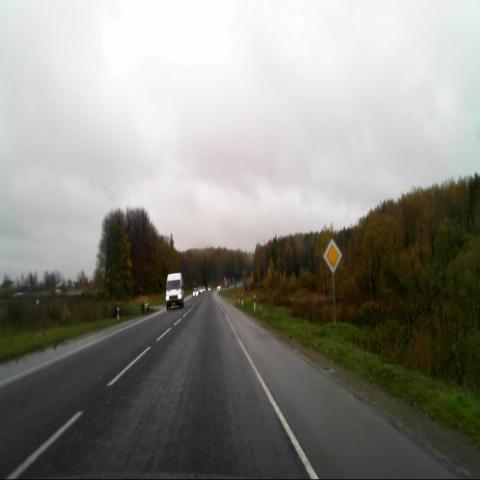2_1: (323, 237, 343, 274)
